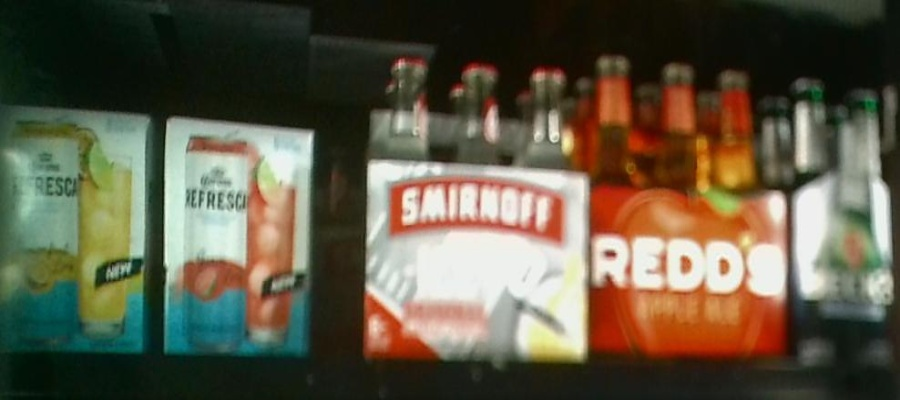bottle: (360, 54, 588, 359), (588, 55, 790, 357), (1, 105, 153, 356), (161, 118, 317, 357), (788, 72, 898, 367)
